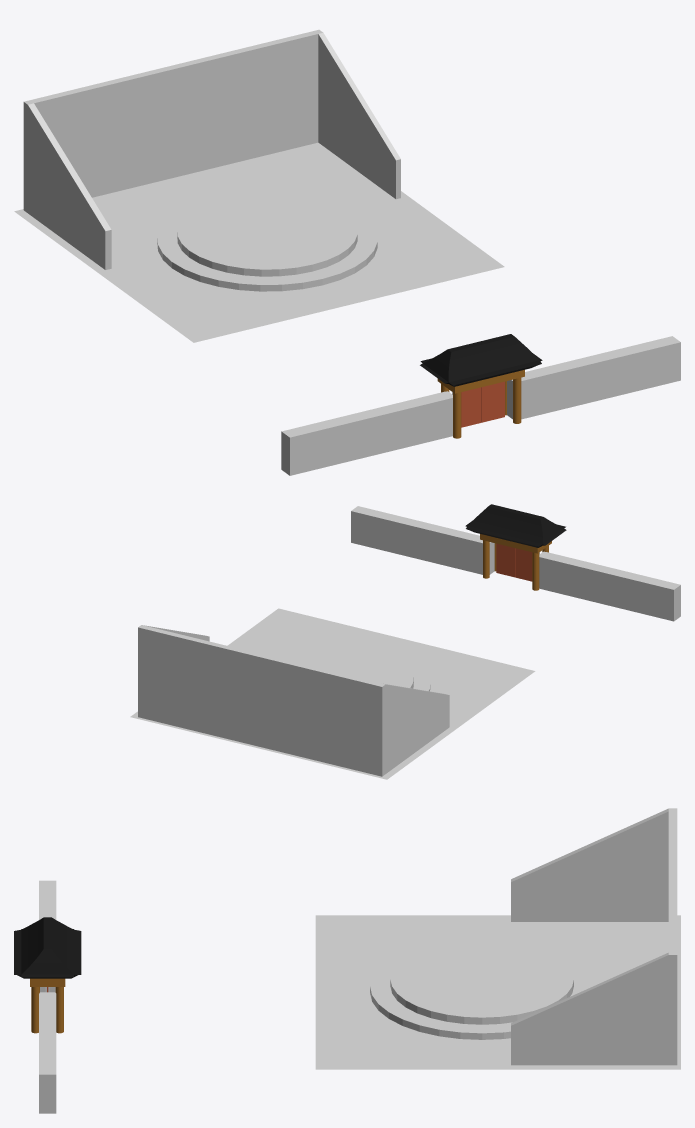
The model's file is proto_01.gltf.
3 views of the same model, one above another, from view 1: azimuth 30°, elevation 25°; view 2: azimuth 150°, elevation 25°; view 3: azimuth 270°, elevation 25° (orthographic). The views are drawn at different scales.
Parts seen in each view (by area): view 1: Cube.005, Plane, Cube.004, Cylinder.002, Cylinder.001, Cube.002, Cube.001, Cylinder; view 2: Cube.005, Plane, Cube.004, Cylinder.002, Cube.002, Cube.001, Cylinder.001, Cylinder, Cube.003; view 3: Cube.005, Plane, Cylinder.002, Cylinder.001, Cube.002, Cube.004, Cylinder.
Boxes of the visible parts, bbox=[...] form: Cube.005: bbox=[23, 29, 400, 269]; Plane: bbox=[14, 142, 504, 342]; Cube.004: bbox=[281, 336, 680, 475]; Cylinder.002: bbox=[177, 193, 357, 276]; Cylinder.001: bbox=[157, 192, 377, 291]; Cube.002: bbox=[420, 334, 542, 386]; Cube.001: bbox=[461, 381, 504, 427]; Cylinder: bbox=[441, 377, 521, 438]; Cube.005: bbox=[138, 625, 449, 776]; Plane: bbox=[130, 608, 535, 779]; Cube.004: bbox=[351, 506, 680, 621]; Cylinder.002: bbox=[281, 646, 413, 688]; Cube.002: bbox=[465, 504, 566, 547]; Cube.001: bbox=[496, 543, 532, 581]; Cylinder.001: bbox=[274, 645, 430, 691]; Cylinder: bbox=[483, 540, 548, 590]; Cube.003: bbox=[480, 534, 551, 553]; Cube.005: bbox=[511, 808, 677, 1065]; Plane: bbox=[315, 915, 680, 1069]; Cylinder.002: bbox=[390, 940, 573, 1024]; Cylinder.001: bbox=[370, 938, 594, 1039]; Cube.002: bbox=[14, 917, 81, 978]; Cube.004: bbox=[39, 880, 56, 1113]; Cylinder: bbox=[31, 987, 63, 1033].
Size of the model in its own units: 57.57 by 13.86 by 60.05.
